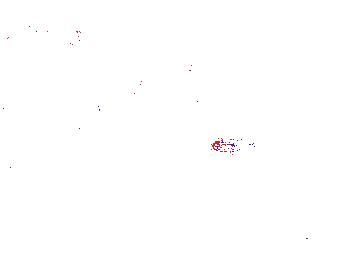red belly glassfish: (209, 137, 261, 154)
redtail glassfish: (3, 23, 88, 61), (64, 113, 141, 144), (108, 77, 150, 96), (167, 51, 197, 76)
